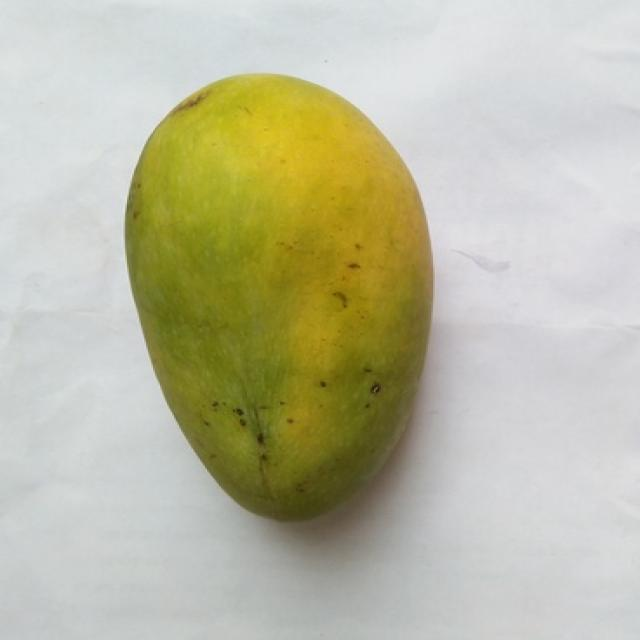Mango: (125, 76, 431, 520)
